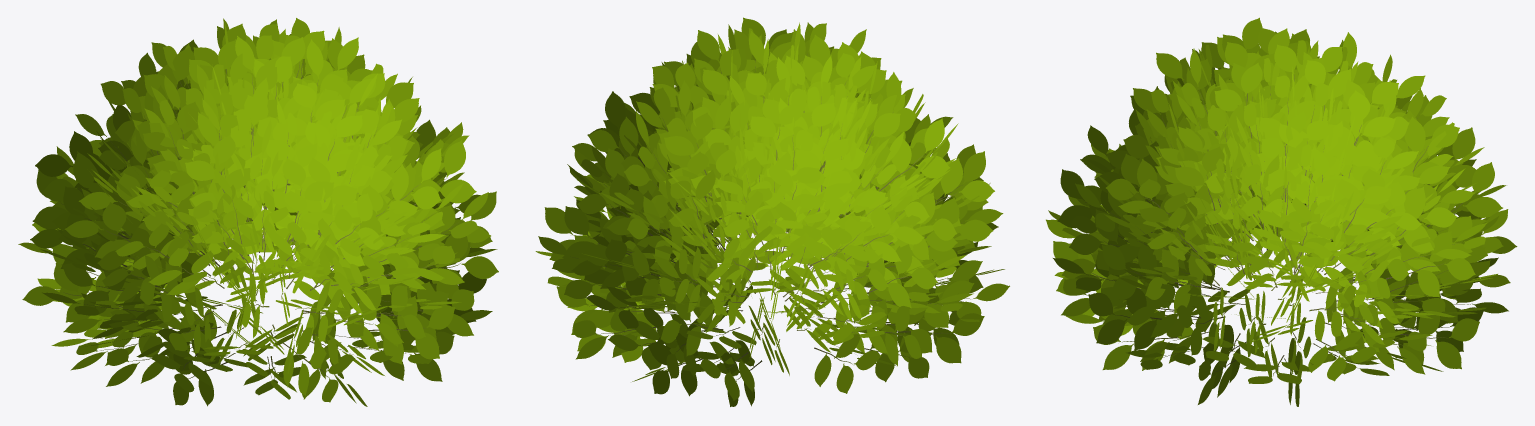
The model's file is SWS_Shrub.fbx.
3 views of the same model, side by side, from view 1: azimuth 30°, elevation 25°; view 2: azimuth 150°, elevation 25°; view 3: azimuth 270°, elevation 25° (orthographic). The views are drawn at different scales.
Parts seen in each view (by area): view 1: SWS_Shrub; view 2: SWS_Shrub; view 3: SWS_Shrub.
Part boxes in pixels (x1,y1,x2,y2): SWS_Shrub: (18, 18, 498, 406); SWS_Shrub: (535, 17, 1009, 406); SWS_Shrub: (1046, 17, 1517, 406).
Size of the model in its own units: 1.58 by 1.14 by 1.6.
1 material, 1 textured.
